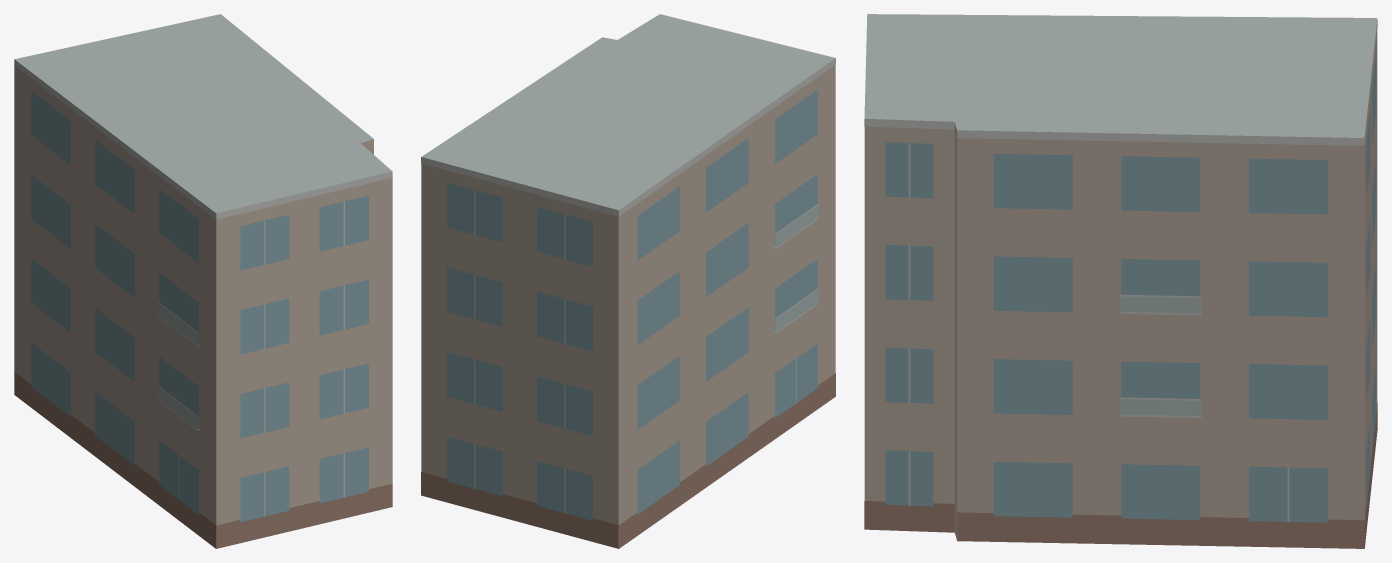
The model's file is survey-upis-32956178.glb.
3 renders of one model, left to right at view 1: azimuth 30°, elevation 25°; view 2: azimuth 150°, elevation 25°; view 3: azimuth 270°, elevation 25°, orthographic. The views are drawn at different scales.
Parts seen in each view (by area): view 1: survey-upis-32956178.tmp; view 2: survey-upis-32956178.tmp; view 3: survey-upis-32956178.tmp.
Part boxes in pixels (<box>): survey-upis-32956178.tmp: <box>14,14,392,548</box>; survey-upis-32956178.tmp: <box>421,14,835,548</box>; survey-upis-32956178.tmp: <box>864,14,1377,548</box>.
Bounding box in the file's own units: 8.38 × 12.9 × 14.61.
